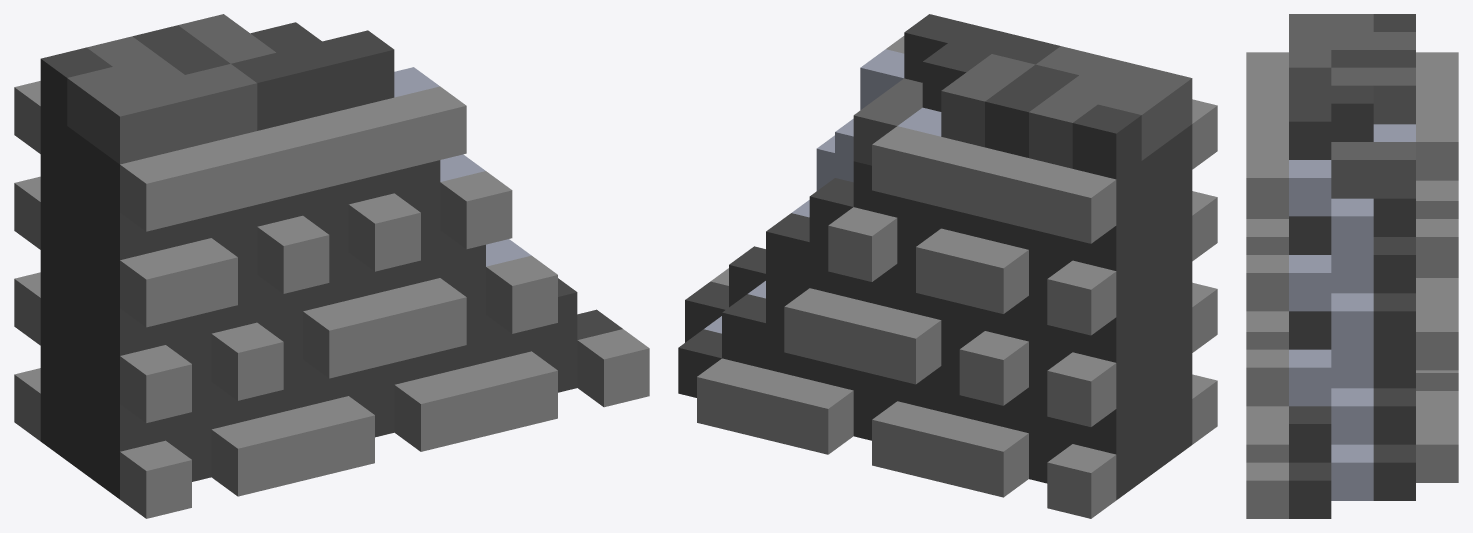
Rendered from Medieval Assets-184-Graveyard - Wall Broken.obj.
3 renders of one model, left to right at view 1: azimuth 30°, elevation 25°; view 2: azimuth 150°, elevation 25°; view 3: azimuth 270°, elevation 25°, orthographic. The views are drawn at different scales.
Visible parts, largest first — view 1: Graveyard - Wall Broken; view 2: Graveyard - Wall Broken; view 3: Graveyard - Wall Broken.
Boxes of the visible parts, x1=… form: Graveyard - Wall Broken: x1=14, y1=14, x2=649, y2=518; Graveyard - Wall Broken: x1=678, y1=14, x2=1217, y2=518; Graveyard - Wall Broken: x1=1246, y1=14, x2=1458, y2=518.
Bounding box in the file's own units: 1.1 × 0.8 × 0.5.
1 material, 1 textured.
